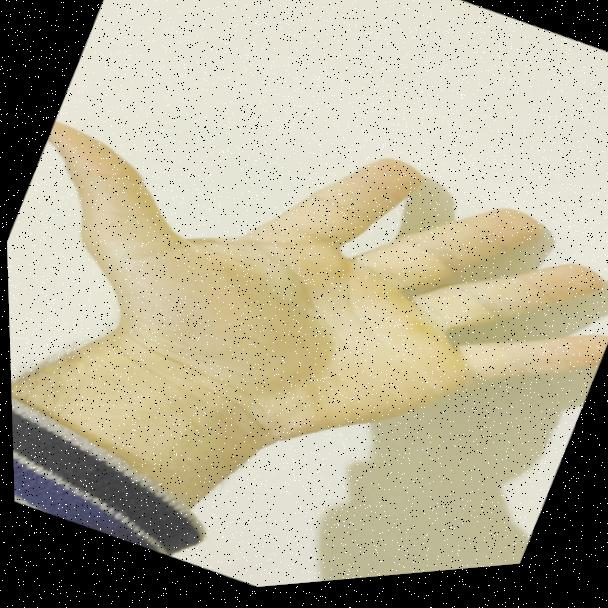five: (1, 11, 608, 527)
